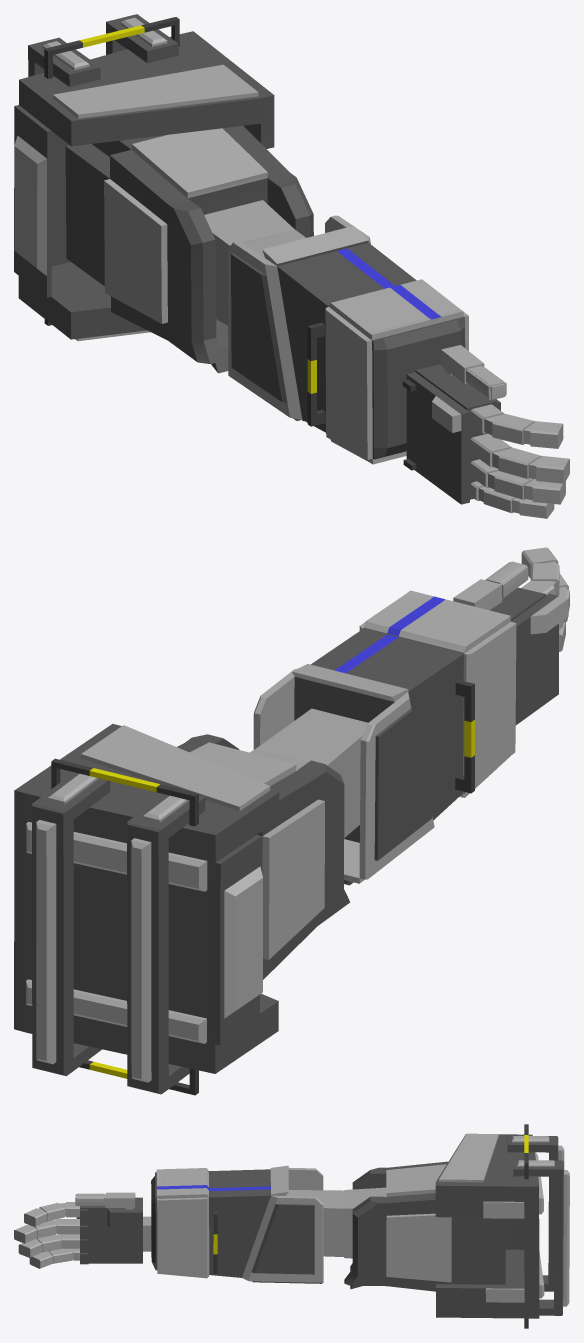
Rendered from Frame_RightArm.fbx.
3 renders of one model, top to bottom at view 1: azimuth 30°, elevation 25°; view 2: azimuth 150°, elevation 25°; view 3: azimuth 270°, elevation 25°, orthographic. The views are drawn at different scales.
Visible parts, largest first — view 1: LoweRightArm2; view 2: LoweRightArm2; view 3: LoweRightArm2.
Boxes of the visible parts, x1,y1,x2,y2 form: LoweRightArm2: (14,14,569,518); LoweRightArm2: (14,547,569,1095); LoweRightArm2: (14,1124,569,1328).
Size of the model in its own units: 1.5 by 2.02 by 6.17.
